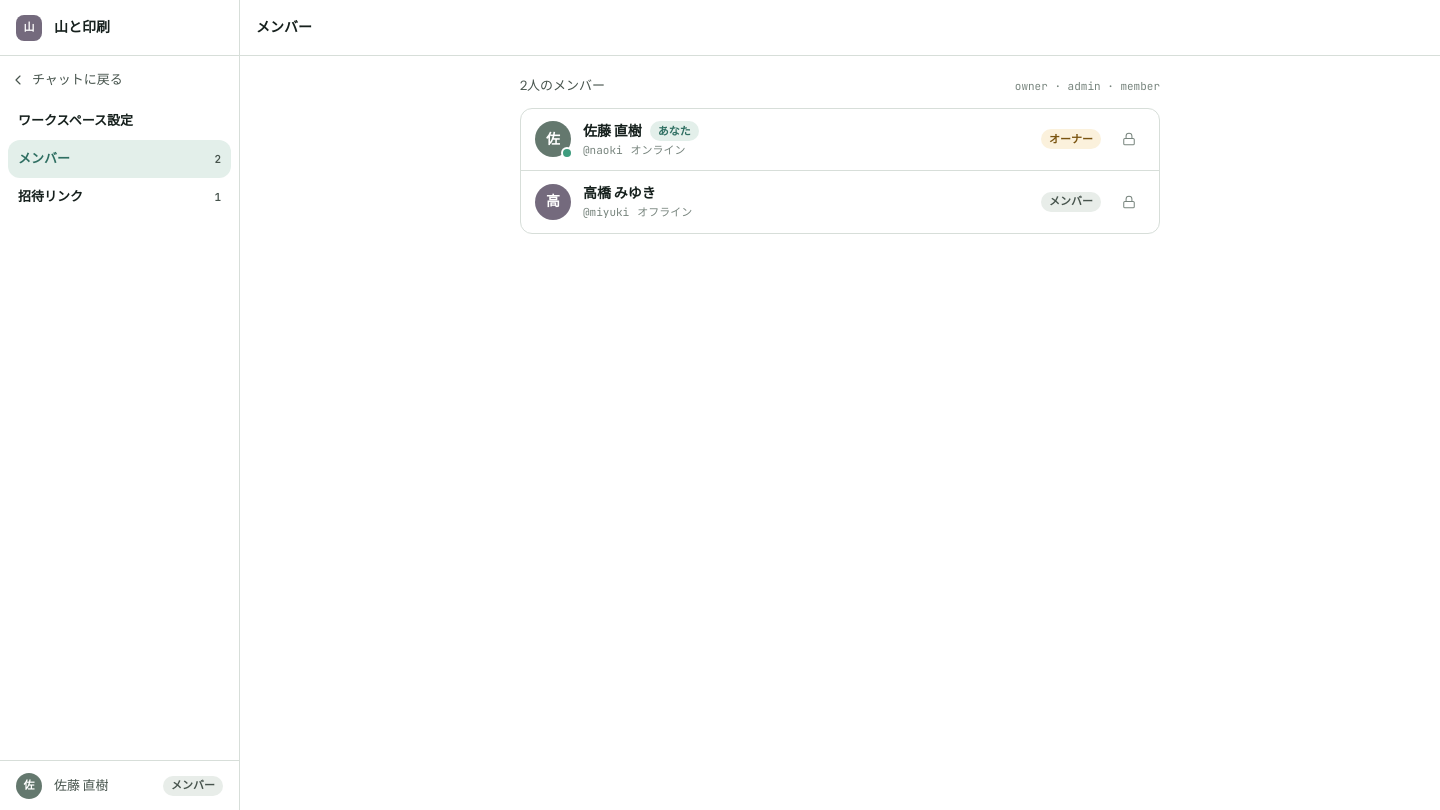
Scenario: the workspace admin screens › members › only offers the lock to a member who cannot manage anyone
Click the button named "高橋 みゆき を管理できない理由". click: (1129,202)
box: [1113,186,1145,218]
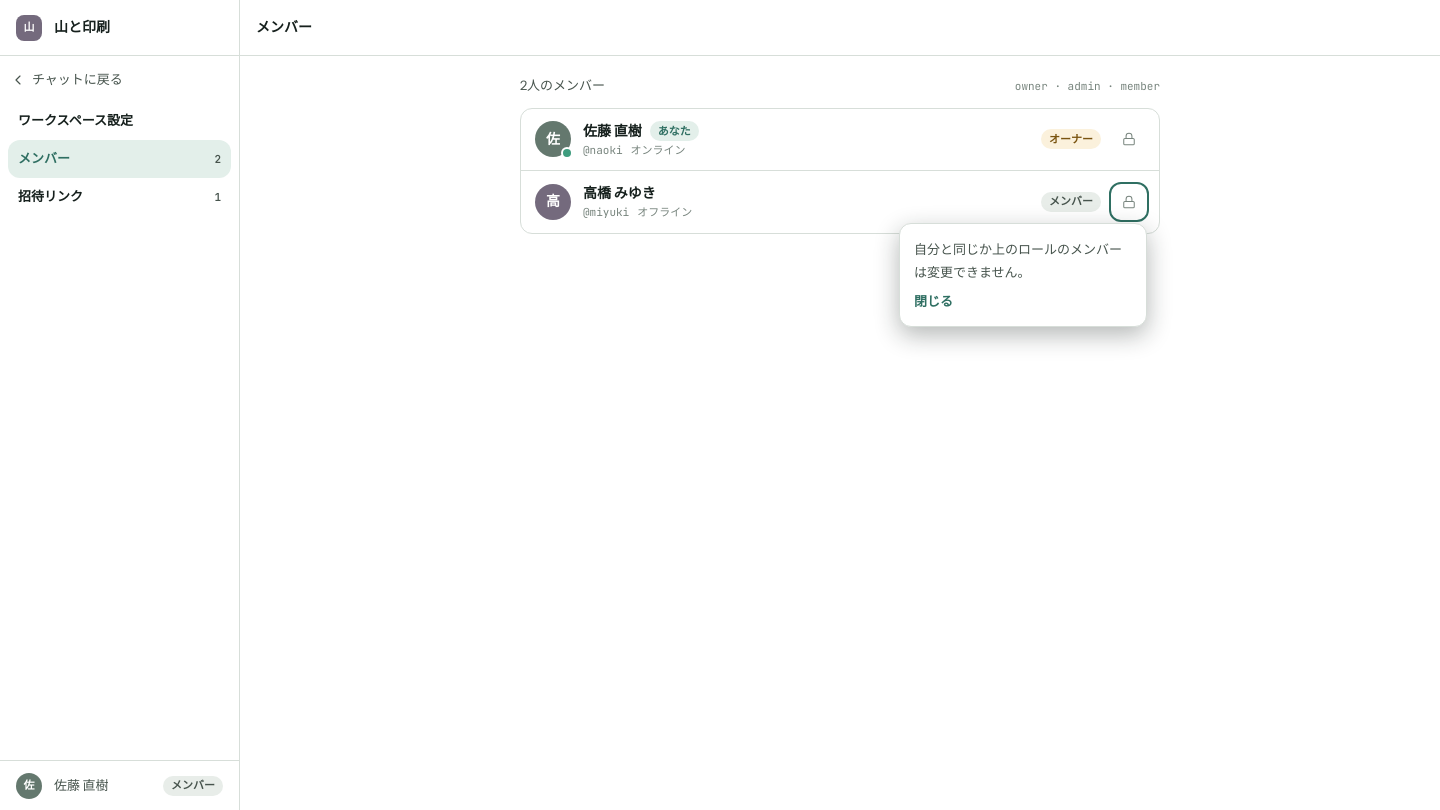
Check: the text "自分と同じか上のロールのメンバーは変更できません。" is shown, box [914,238,1132,284]
